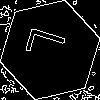L: (25, 25, 76, 65)
